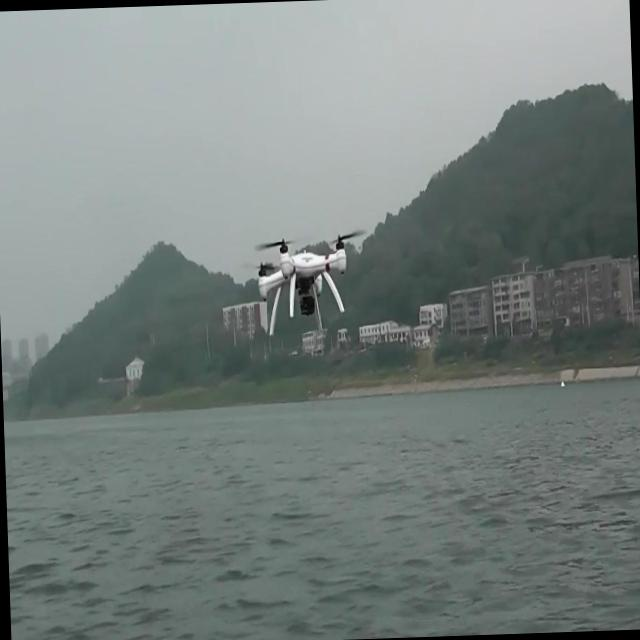drone: (252, 230, 354, 338)
